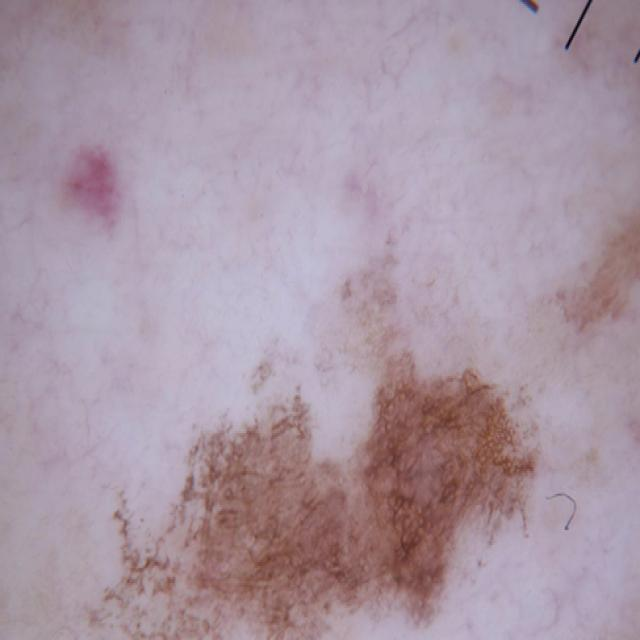Keratosis: (76, 237, 622, 640)
